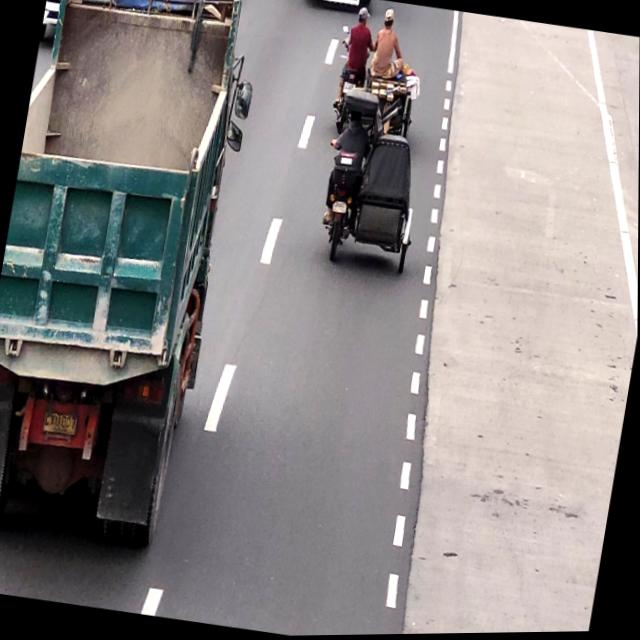License-Plate: (40, 409, 81, 442)
Tricycle: (313, 90, 434, 283)
Truck: (0, 0, 266, 554)
